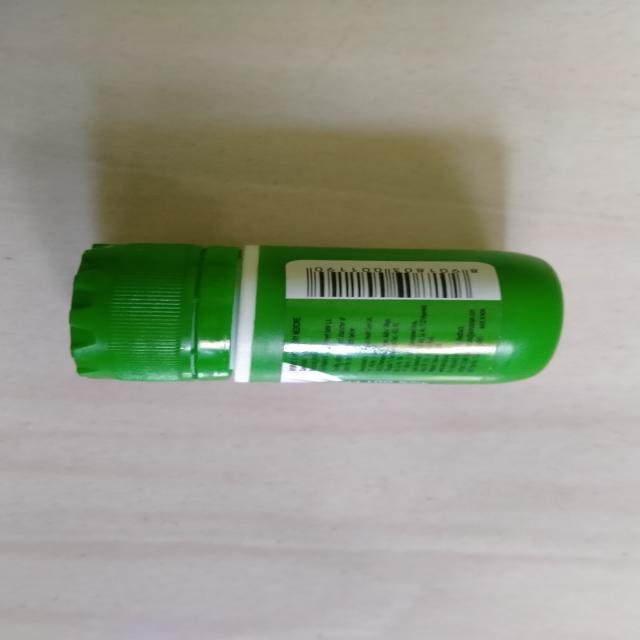eucalyptus oil: (64, 232, 569, 407)
